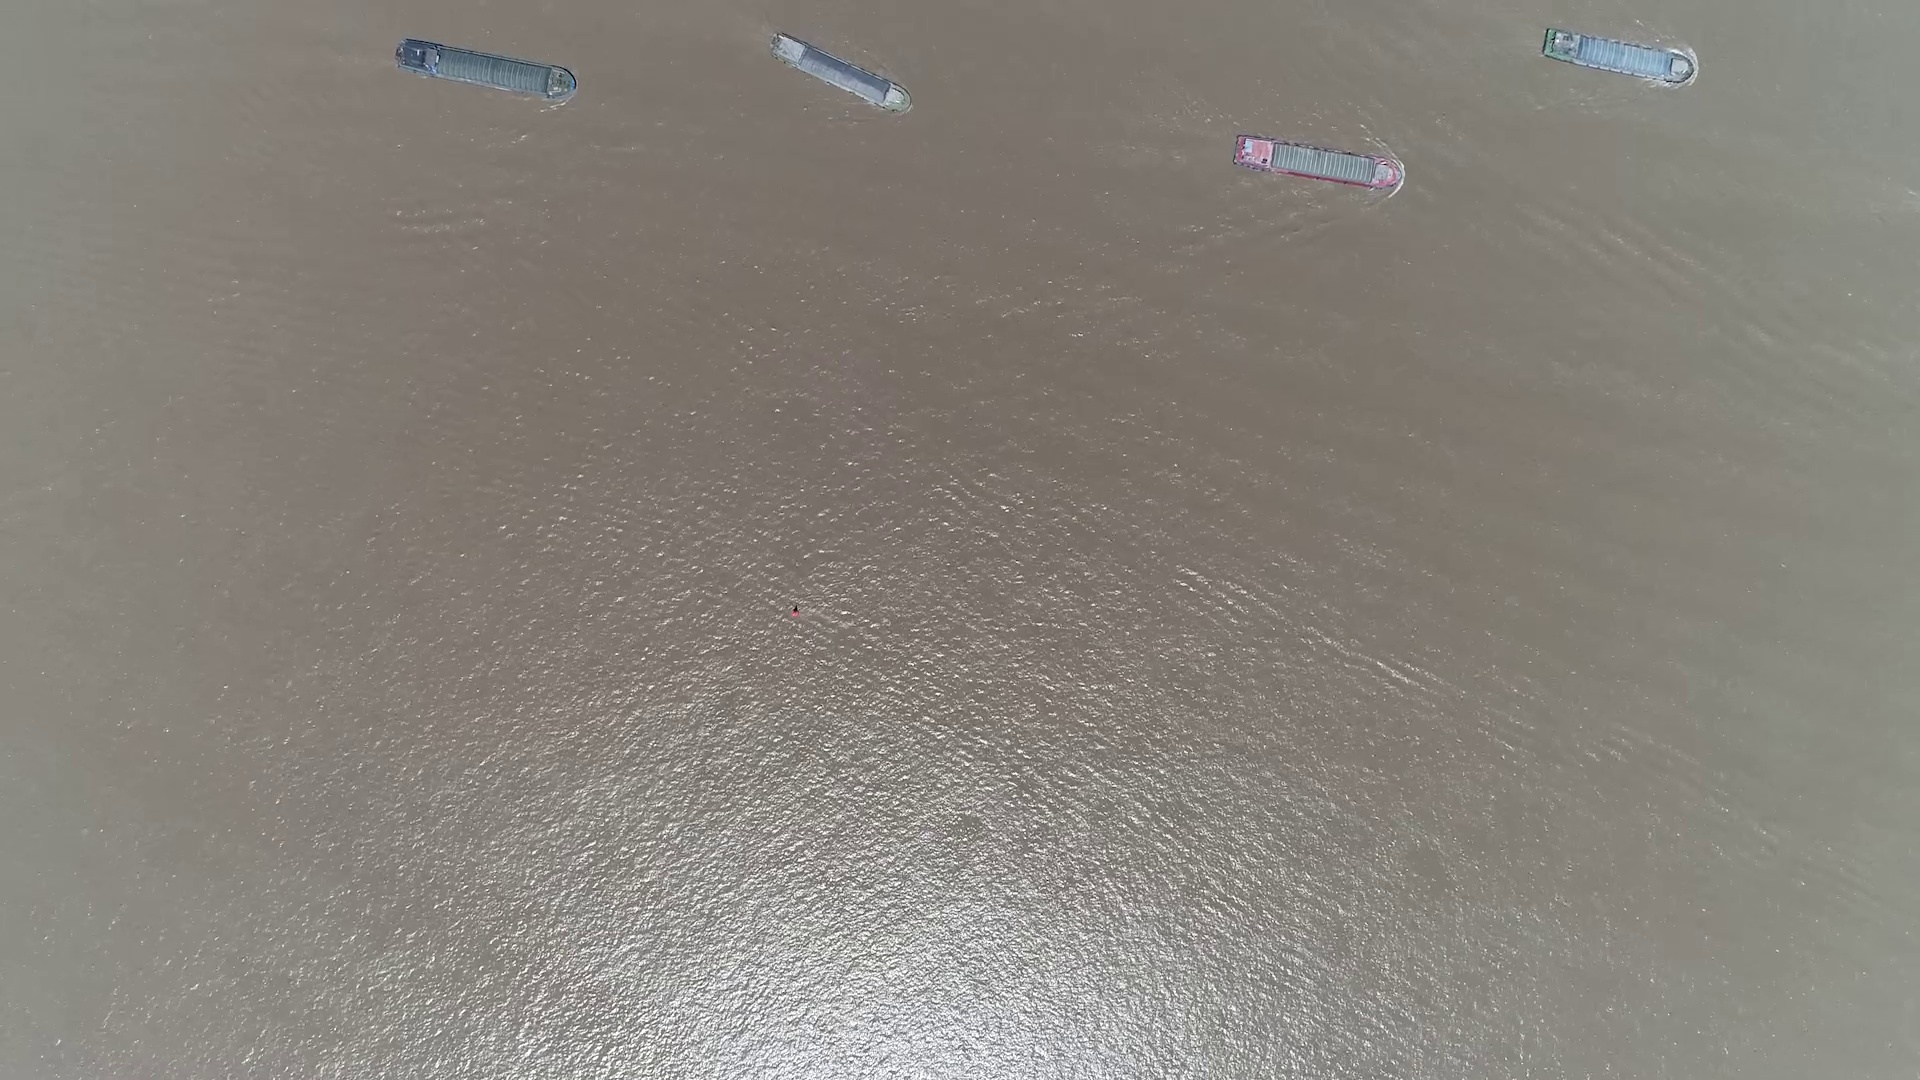ship: (392, 38, 578, 103), (766, 36, 909, 112), (1232, 138, 1403, 193), (1538, 30, 1695, 83)
